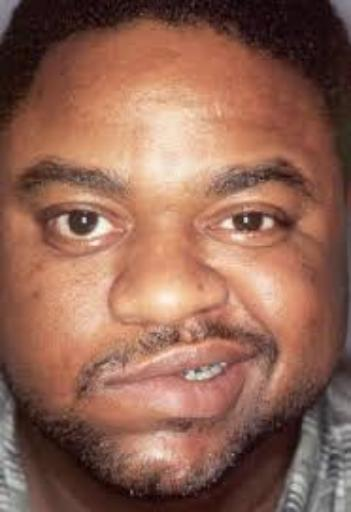left_eye: (208, 207, 295, 244)
left_lip_corner: (241, 347, 264, 370)
right_eye: (35, 207, 122, 251)
right_lip_corner: (98, 373, 124, 399)
